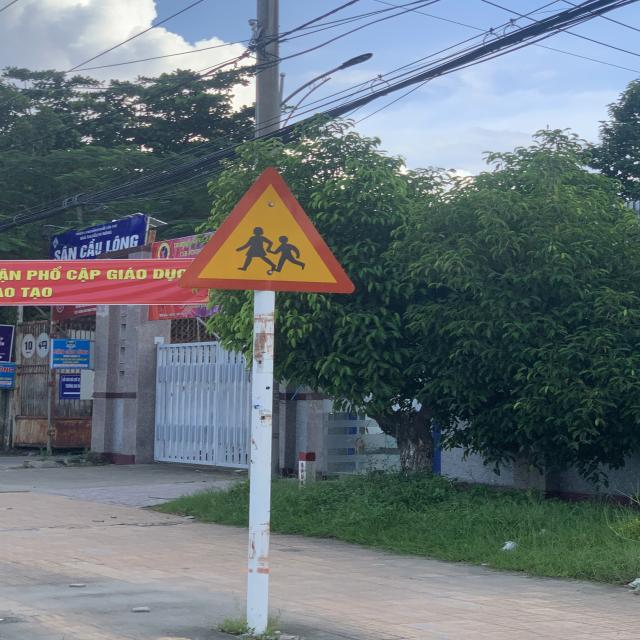Vong_Xuyen: (188, 164, 352, 292)
